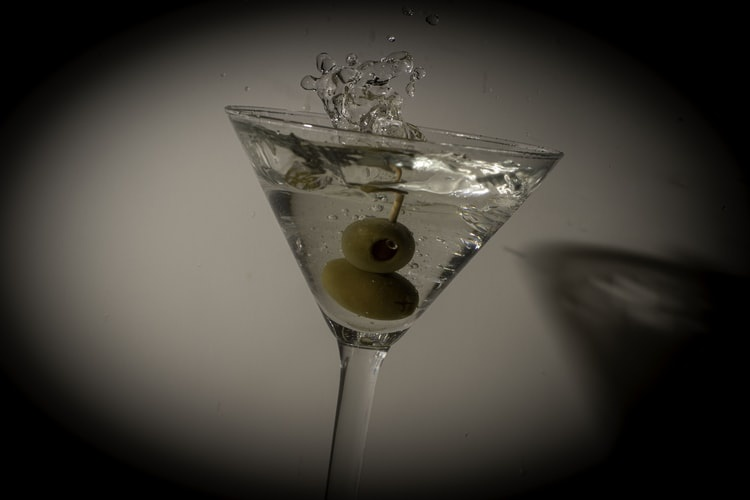whiskey: (195, 120, 562, 415)
